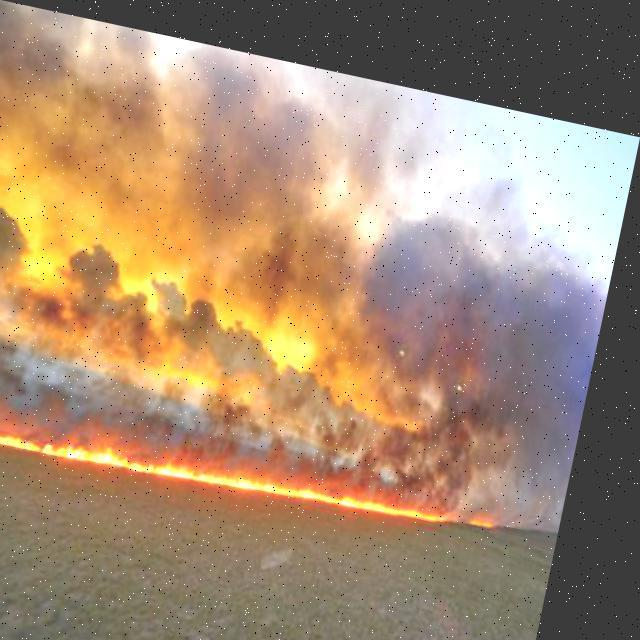Fire: (0, 376, 514, 524)
